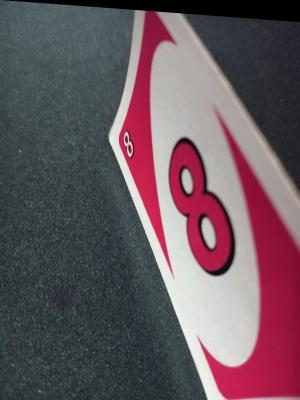num_8: (162, 125, 242, 284), (118, 123, 144, 162)
